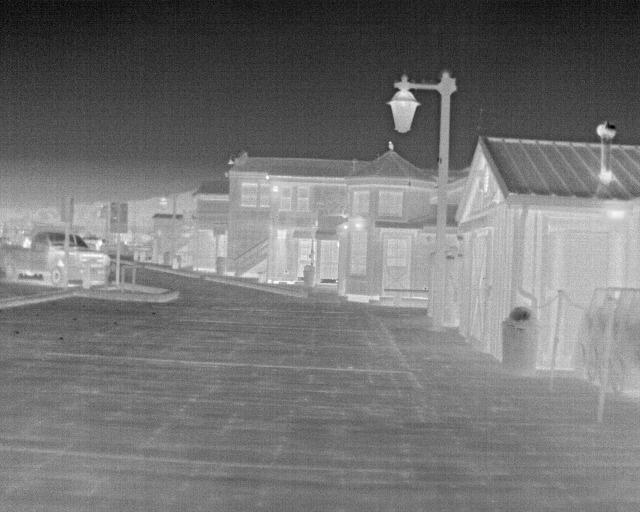car: (0, 228, 113, 290)
